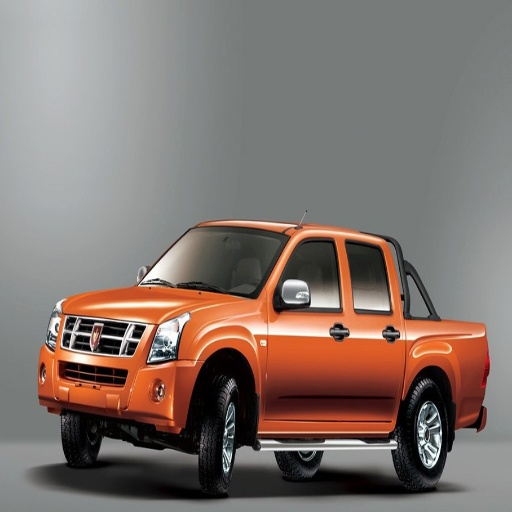front_bumper: (39, 316, 200, 422)
front_glass: (140, 228, 286, 297)
front_left_door: (266, 236, 349, 425)
trunk: (400, 322, 482, 423)
